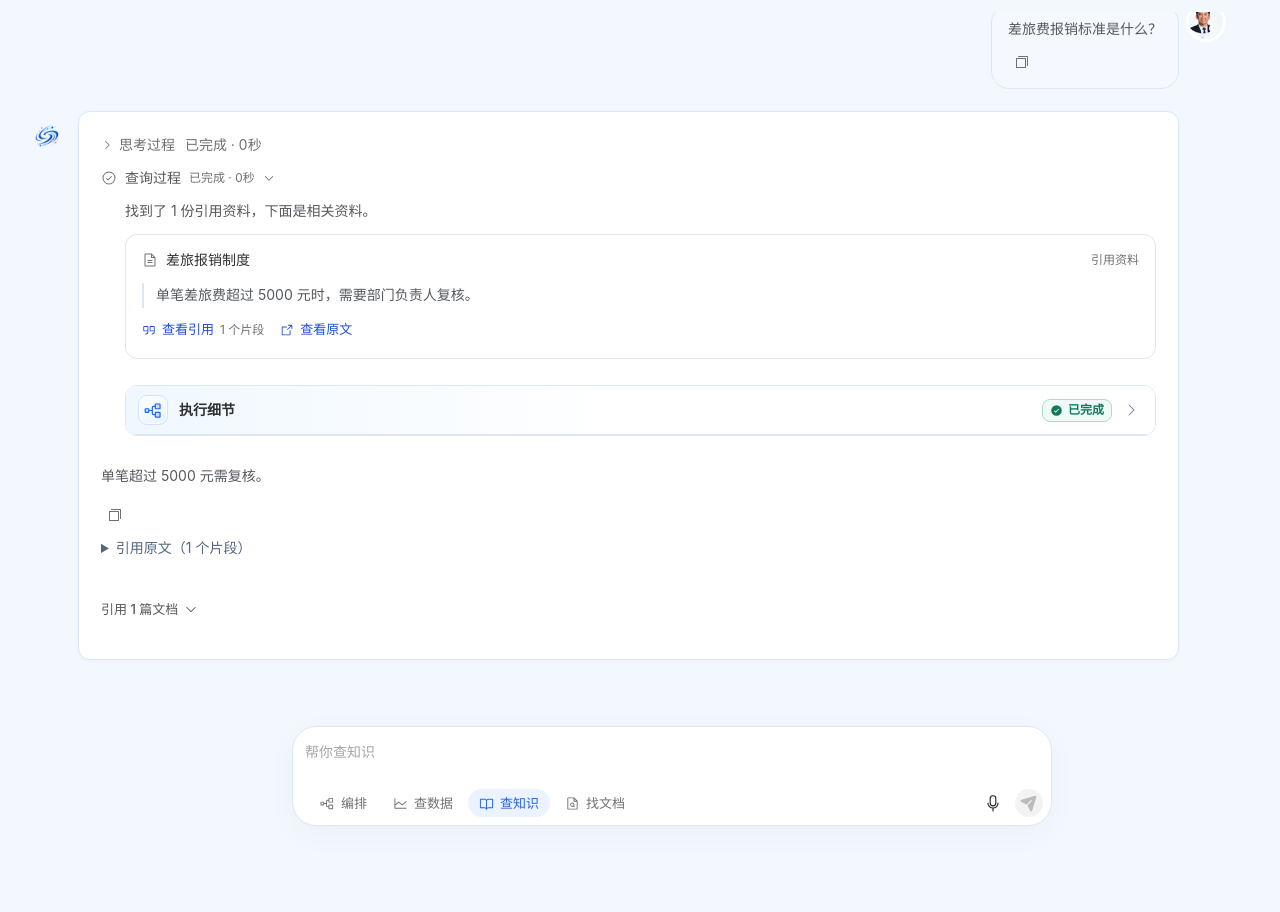
Test: workflow page actions › 问知轮次先展示思考与查询，结果保留真实引用且没有多余标题
(page scrolled)
Click the button "思考过程 已完成 · 0秒": (181, 145) [101,130,262,160]
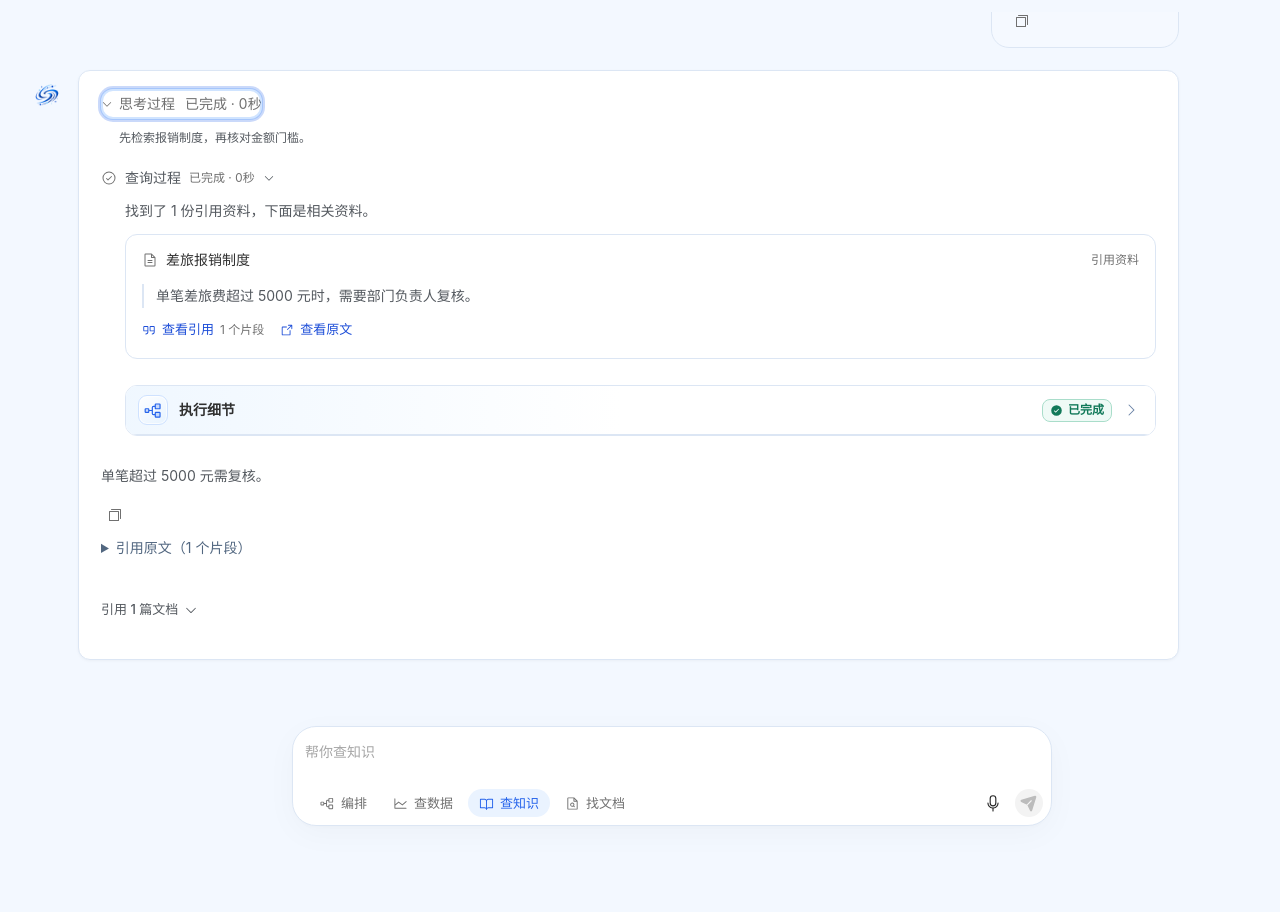
Check: the element named "模型思考" shows "先检索报销制度", box [119,130,311,145]
Click the button "引用 1 篇文档": (150, 610) [101,596,198,623]
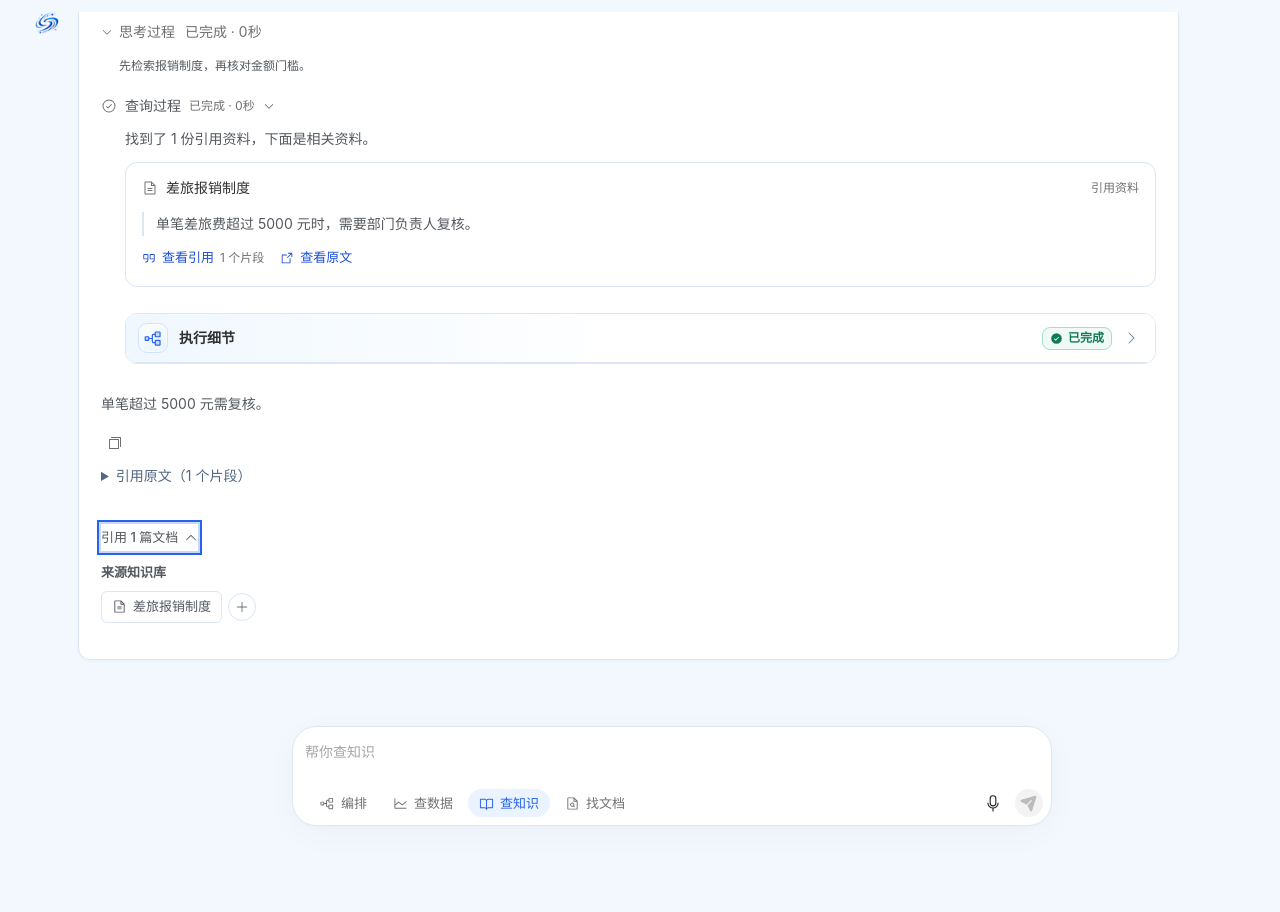
Check: the heading "差旅报销制度" is shown, box [166,179,250,196]
Click the button "执行细节 已完成": (207, 338) [138,318,1147,358]
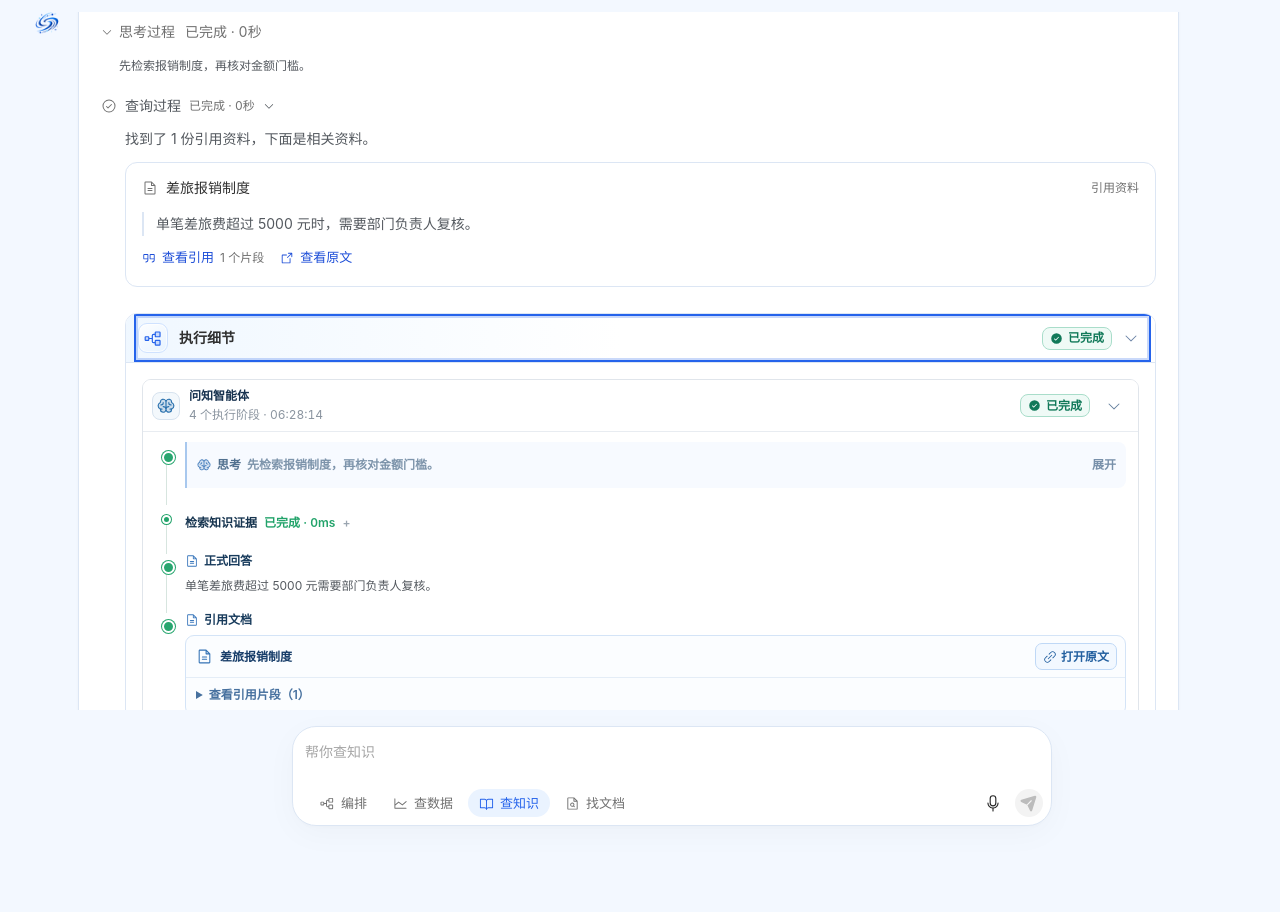
Check: the element named "模型活动：检索知识证据" is shown, box [185,514,354,532]
Check: the text "引用文档" is shown, box [204,611,252,629]
